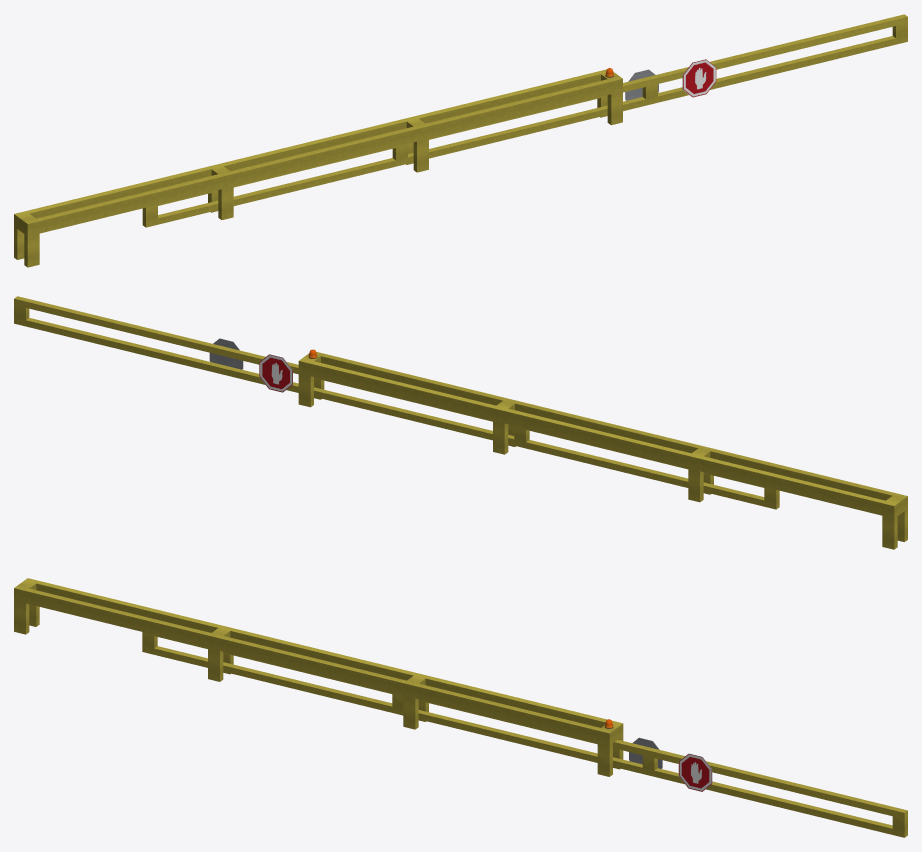
The model's file is ChimNirYellowGate.gltf.
3 views of the same model, one above another, from view 1: azimuth 30°, elevation 25°; view 2: azimuth 150°, elevation 25°; view 3: azimuth 330°, elevation 25° (orthographic).
Parts seen in each view (by area): view 1: node1, node3; view 2: node1, node3, node2; view 3: node1, node3.
Boxes of the visible parts, left/top/right/bottom form: node1: left=14, top=14, right=907, bottom=267; node3: left=683, top=59, right=716, bottom=97; node1: left=14, top=296, right=907, bottom=549; node3: left=259, top=354, right=292, bottom=392; node2: left=209, top=338, right=292, bottom=384; node1: left=14, top=578, right=907, bottom=837; node3: left=678, top=754, right=711, bottom=791.
Bounding box in the file's own units: 14.87 × 0.807 × 0.4.
